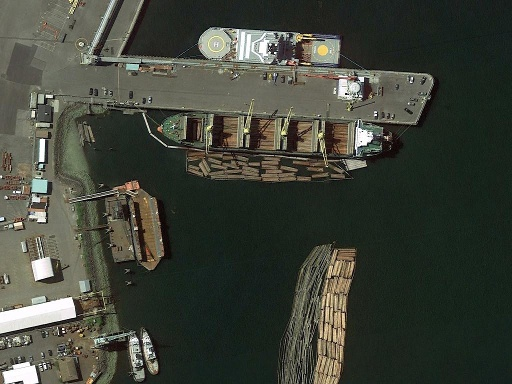ship: (158, 110, 394, 160), (196, 25, 341, 68), (135, 326, 162, 377), (123, 329, 148, 384)
